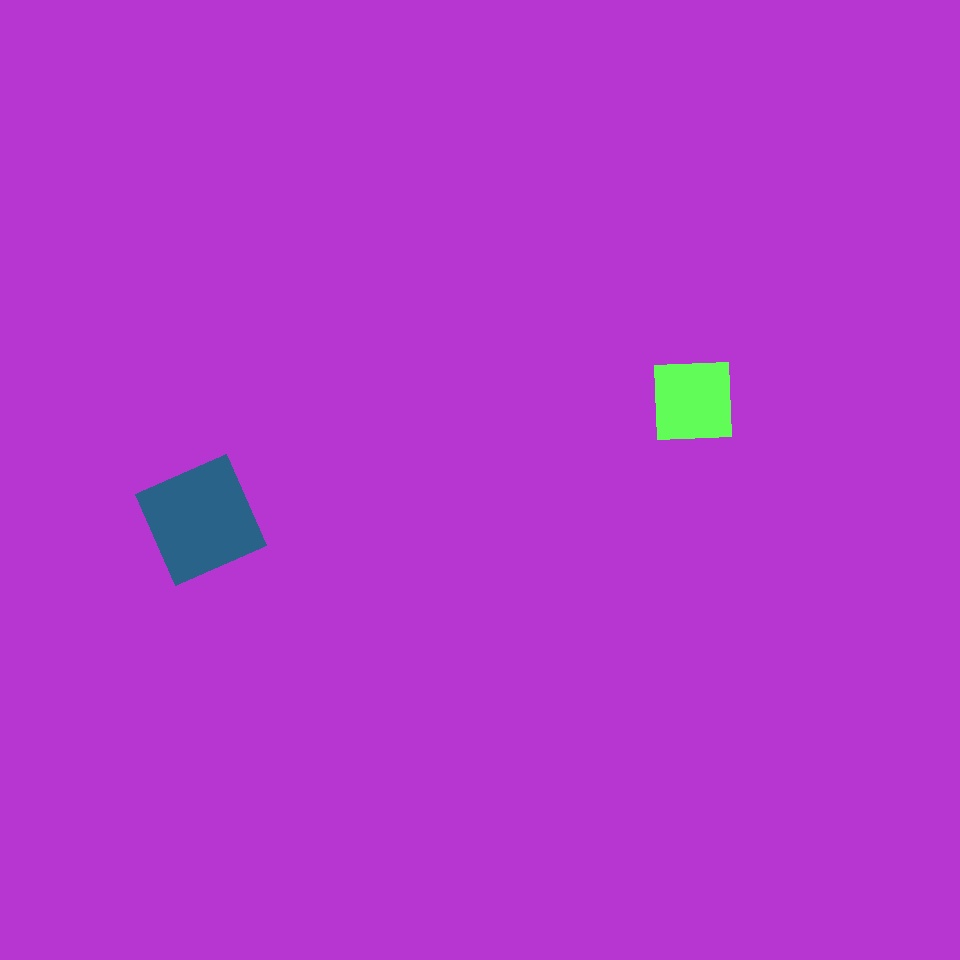circle: (200, 284, 288, 376)
square: (621, 112, 811, 302), (723, 402, 901, 581), (53, 20, 208, 176), (136, 454, 266, 586), (654, 362, 732, 440)
